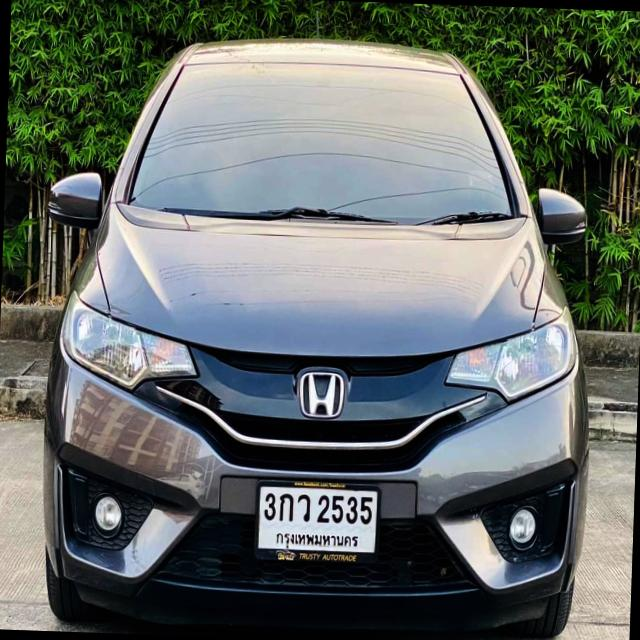license_plate: (254, 475, 381, 568)
